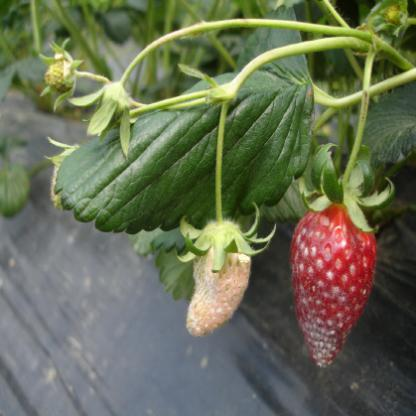Strawberry_Powdery_Mildew_Fruit: (289, 188, 377, 368), (185, 218, 253, 338)
